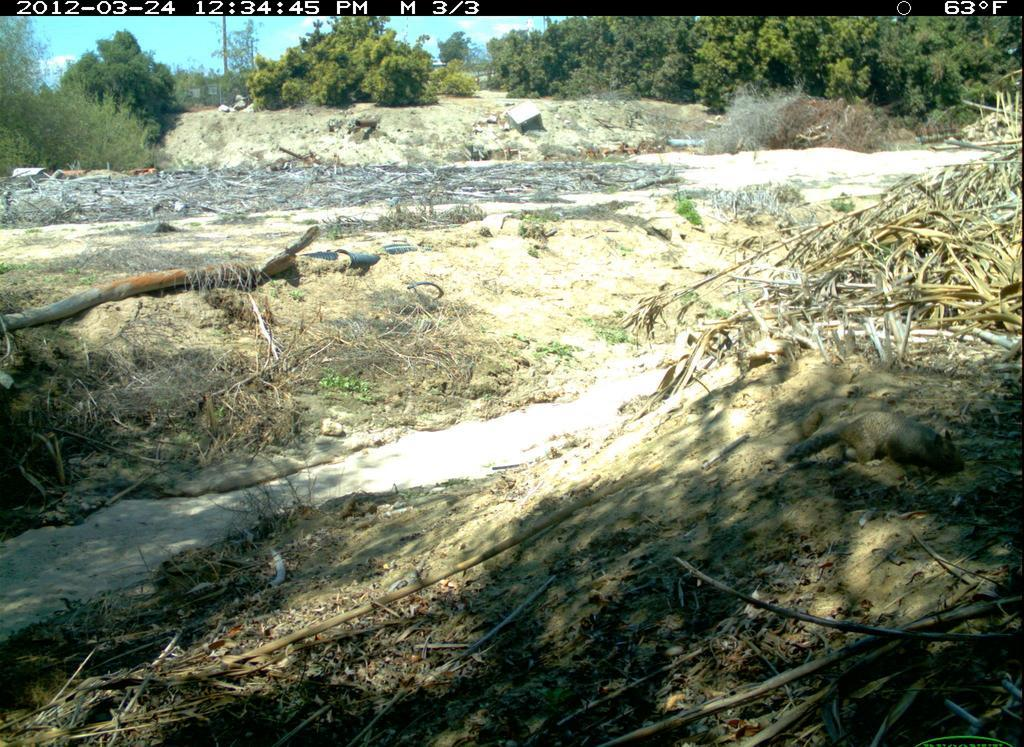squirrel: (780, 396, 972, 492)
